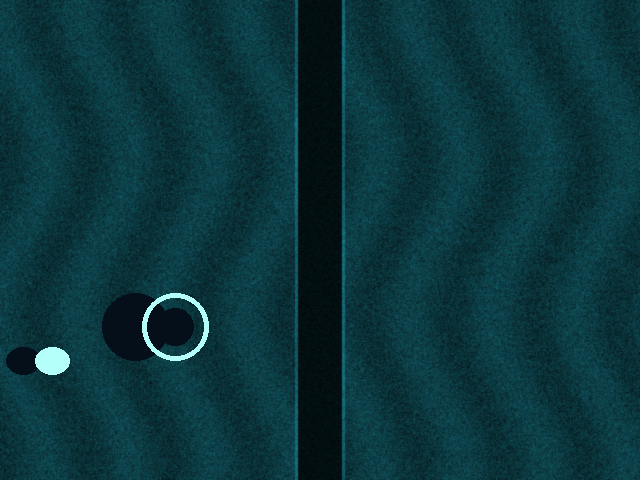Glass Debris: (35, 347, 69, 374)
Rubber Debris: (142, 293, 208, 360)
